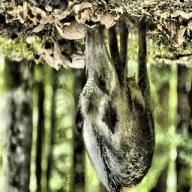boar: (74, 16, 156, 192)
